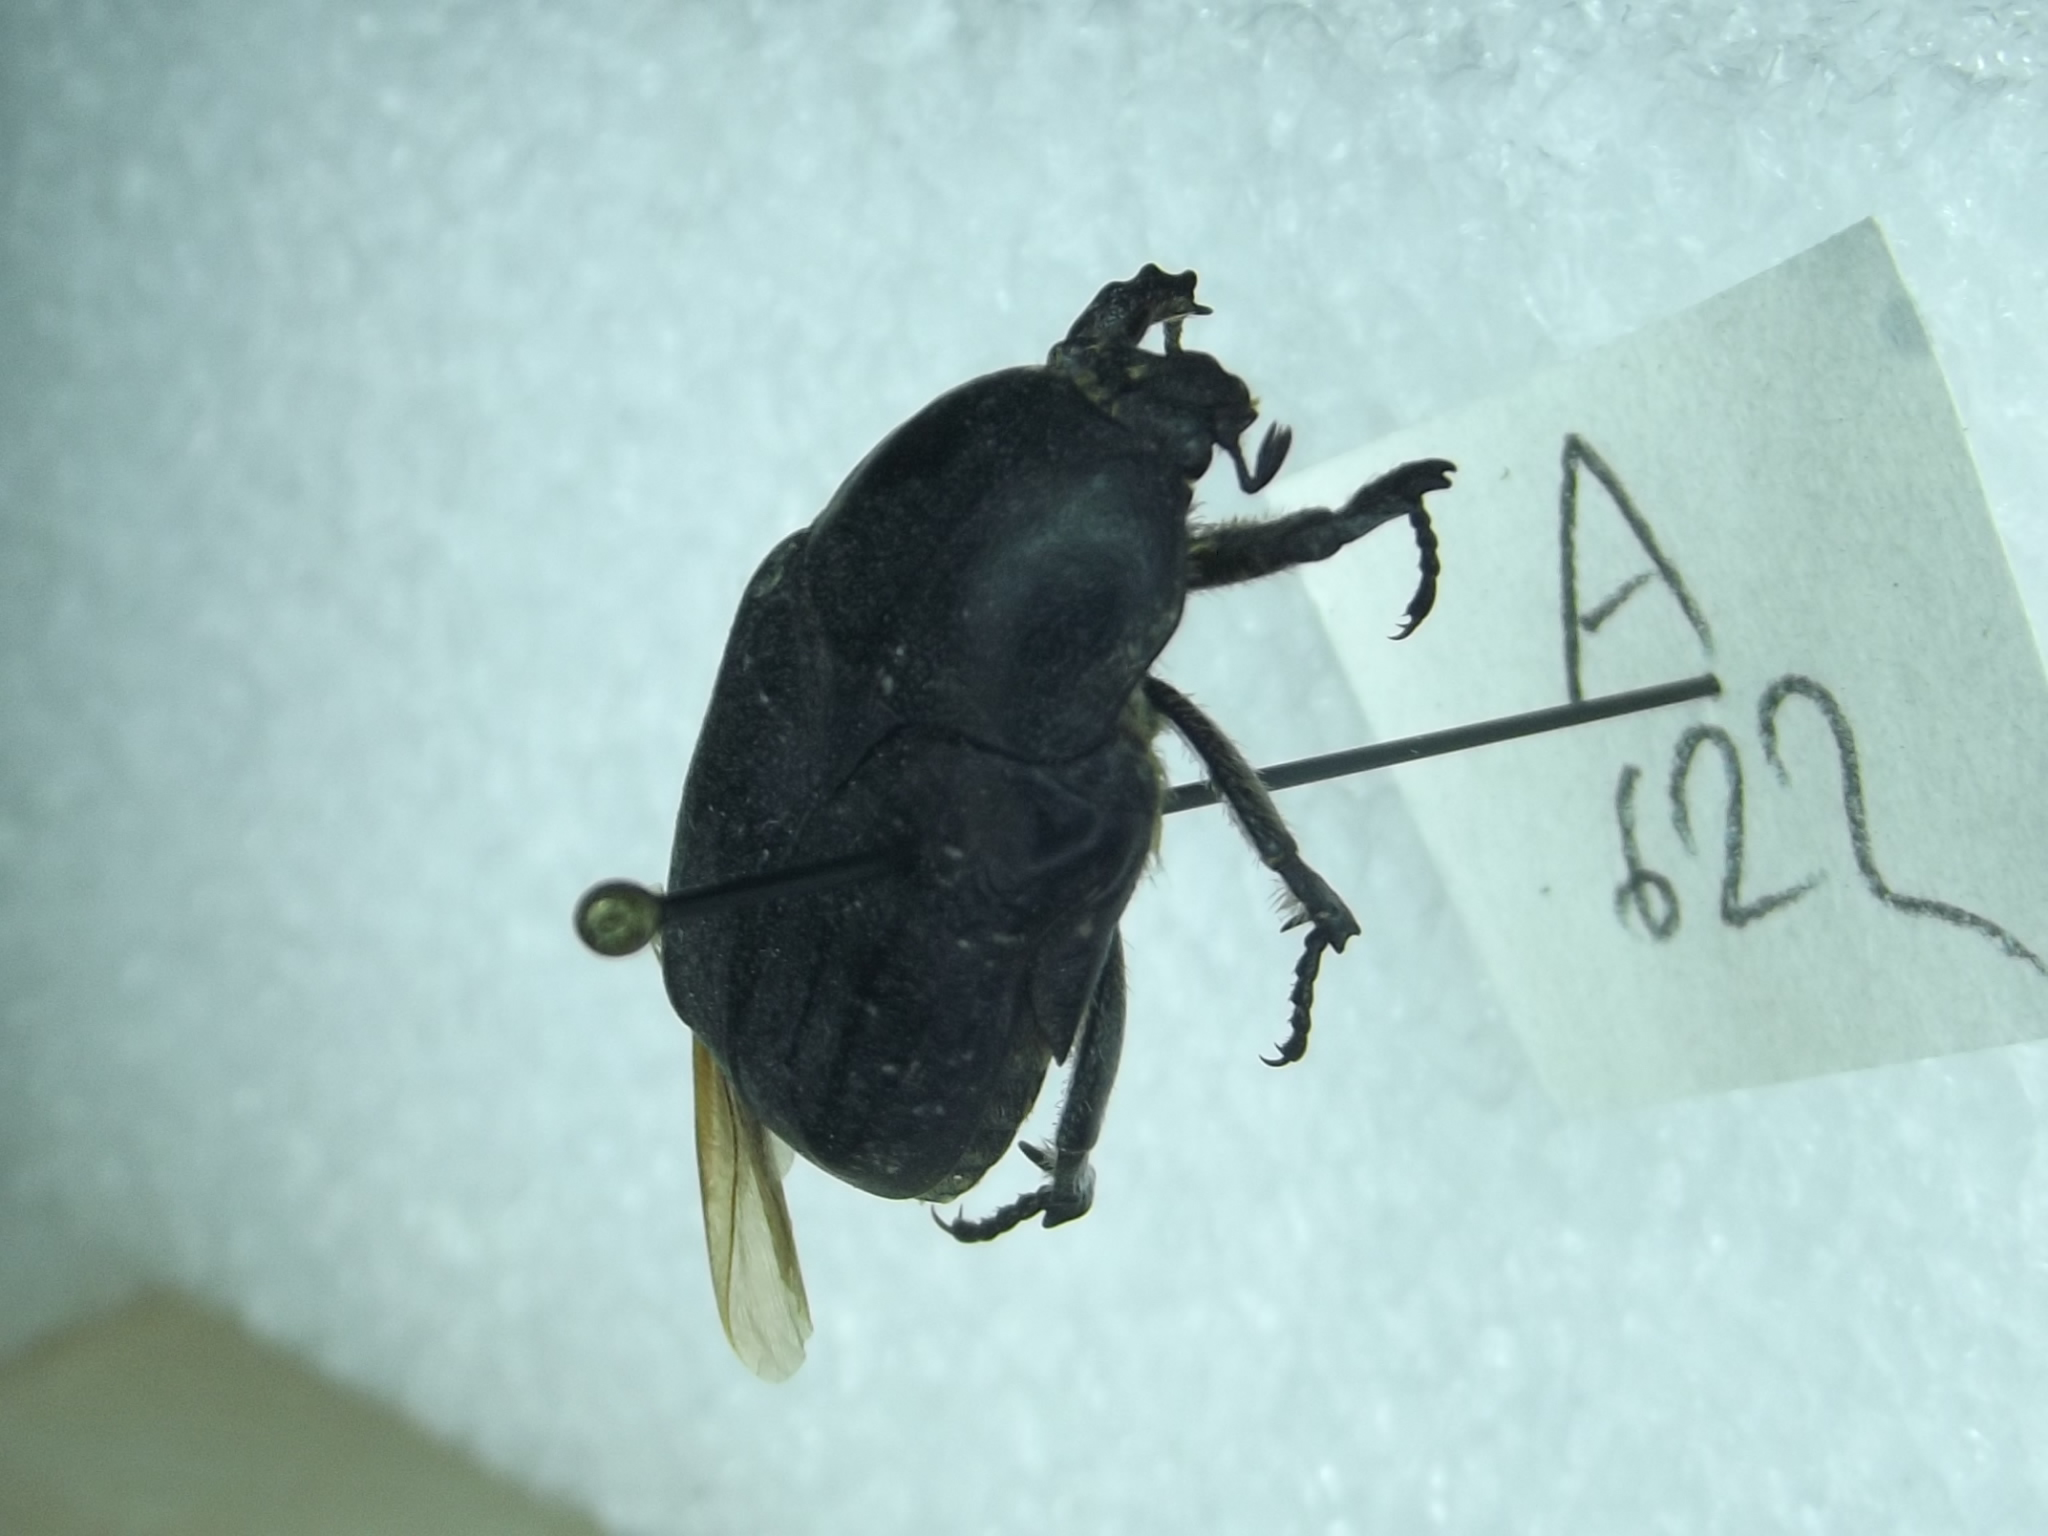Protaetia_asiatica: (650, 257, 1464, 1376)
